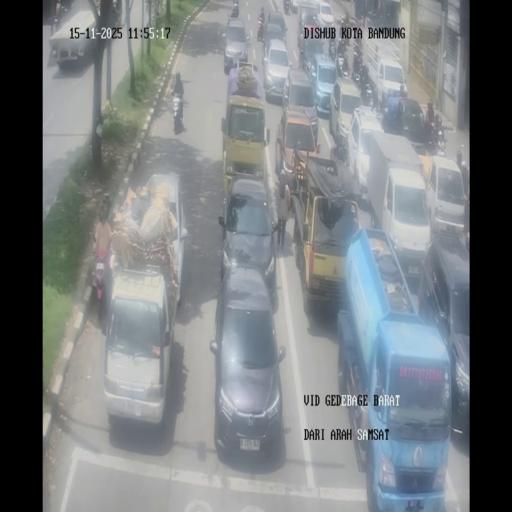3: (337, 230, 450, 507), (294, 157, 364, 316), (363, 133, 428, 266), (48, 9, 100, 68)
car: (101, 265, 175, 430), (218, 178, 279, 301), (133, 171, 189, 304), (276, 85, 318, 188), (424, 155, 466, 237), (306, 52, 336, 118), (392, 97, 428, 152), (262, 38, 291, 102), (374, 55, 407, 109), (222, 16, 249, 74), (294, 0, 322, 40), (263, 10, 287, 48), (316, 0, 335, 28)
truck: (92, 255, 108, 302), (429, 126, 448, 157), (333, 126, 349, 160), (381, 104, 399, 134), (462, 194, 470, 252), (172, 95, 184, 133), (360, 73, 374, 105), (352, 36, 364, 67), (337, 50, 350, 78), (50, 8, 61, 35), (58, 0, 73, 17), (328, 38, 337, 62), (339, 33, 350, 52), (257, 16, 265, 41), (112, 0, 121, 22), (341, 13, 350, 34), (298, 44, 305, 68), (230, 0, 239, 18), (296, 24, 302, 50), (260, 36, 266, 59), (283, 0, 291, 15)
